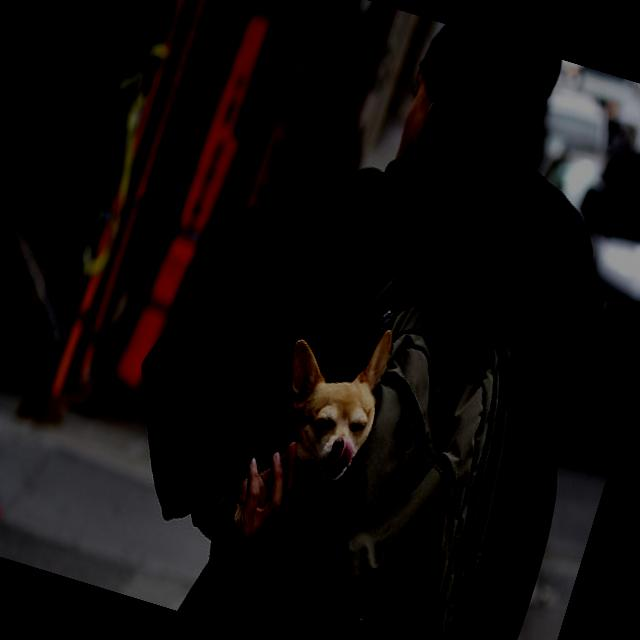Vehicle: (525, 103, 640, 392), (524, 80, 620, 194), (542, 144, 606, 211)
